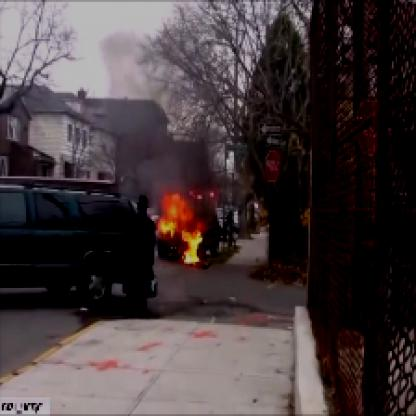Fire: (147, 188, 221, 268)
